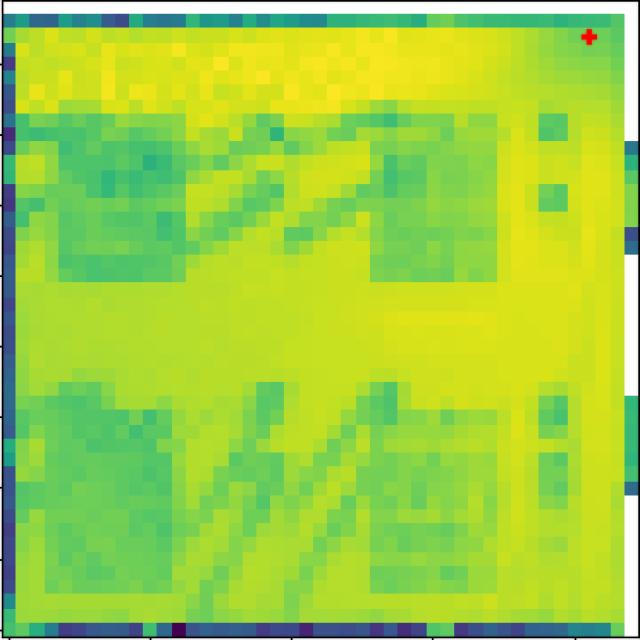Concrete: (349, 90, 518, 308)
Glass: (46, 103, 201, 308)
Metal: (348, 393, 503, 601)
Wood: (30, 392, 194, 608)
